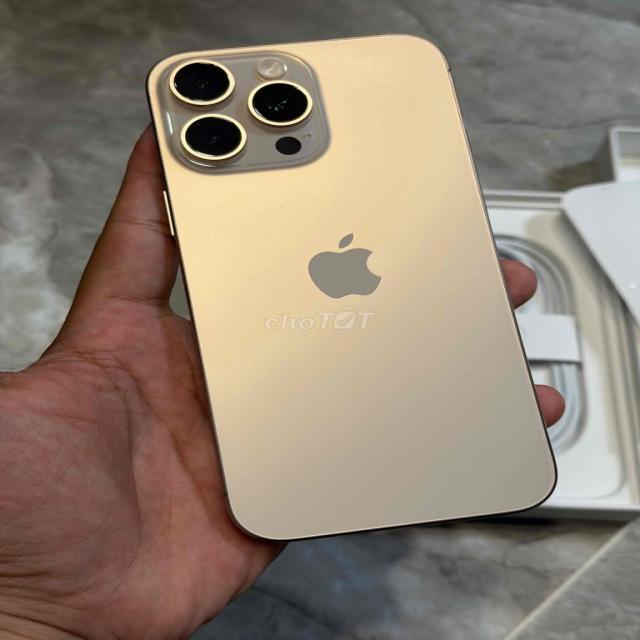gen_16: (148, 36, 556, 541)
